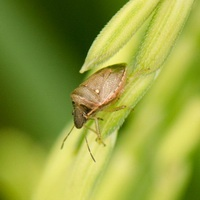insect: (61, 63, 125, 148)
